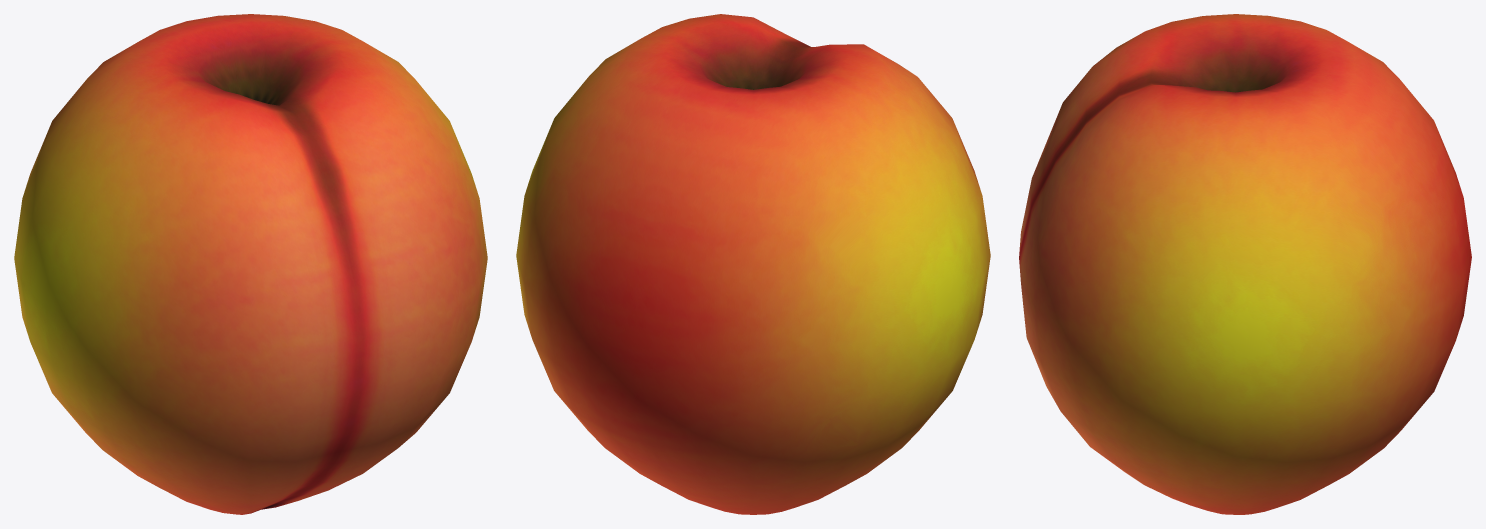
File: Peach2-MP.fbx
3 renders of one model, left to right at view 1: azimuth 30°, elevation 25°; view 2: azimuth 150°, elevation 25°; view 3: azimuth 270°, elevation 25°, orthographic.
Parts seen in each view (by area): view 1: peach2_MP; view 2: peach2_MP; view 3: peach2_MP.
Boxes of the visible parts, <box> form: peach2_MP: <box>14,14,487,514</box>; peach2_MP: <box>516,14,990,514</box>; peach2_MP: <box>1019,14,1471,514</box>.
Bounding box in the file's own units: 170 × 179 × 163.
1 material, 1 textured.
